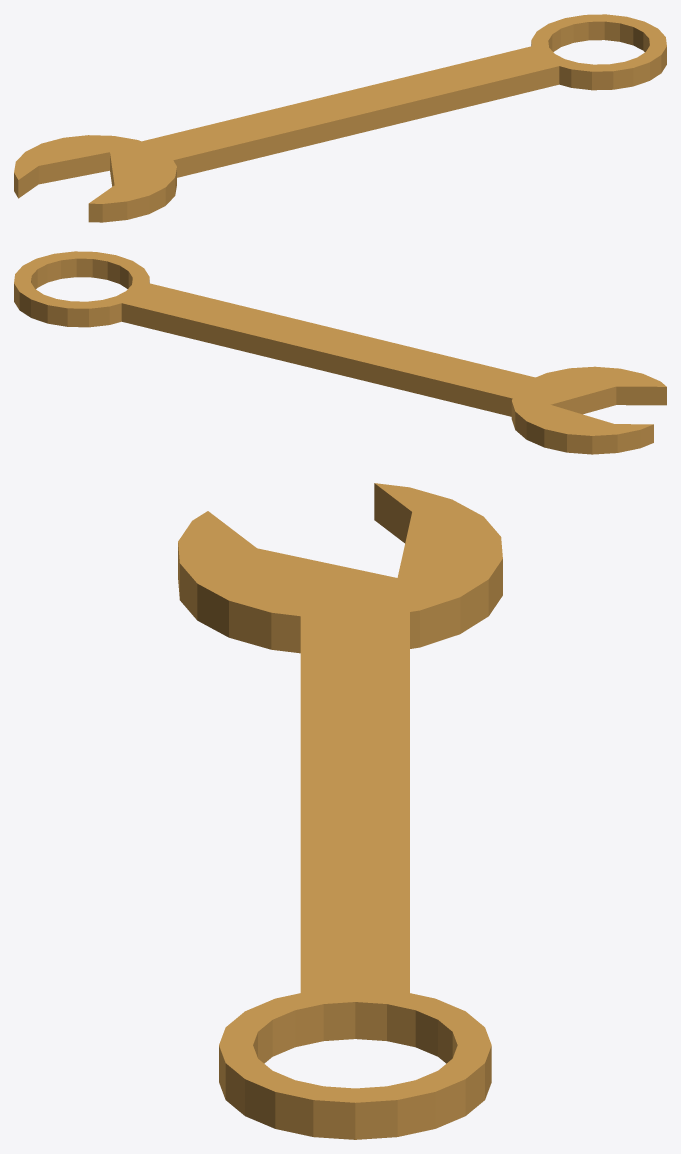
Rendered from Powerful Vihelmo.glb.
3 renders of one model, top to bottom at view 1: azimuth 30°, elevation 25°; view 2: azimuth 150°, elevation 25°; view 3: azimuth 270°, elevation 25°, orthographic. The views are drawn at different scales.
Parts seen in each view (by area): view 1: Mesh_Mesh_head_geo.001_lambert2SG.001; view 2: Mesh_Mesh_head_geo.001_lambert2SG.001; view 3: Mesh_Mesh_head_geo.001_lambert2SG.001.
Part boxes in pixels (<box>): Mesh_Mesh_head_geo.001_lambert2SG.001: <box>14,14,666,222</box>; Mesh_Mesh_head_geo.001_lambert2SG.001: <box>14,251,666,454</box>; Mesh_Mesh_head_geo.001_lambert2SG.001: <box>178,483,502,1139</box>.
Bounding box in the file's own units: 108 × 3 × 23.82.
